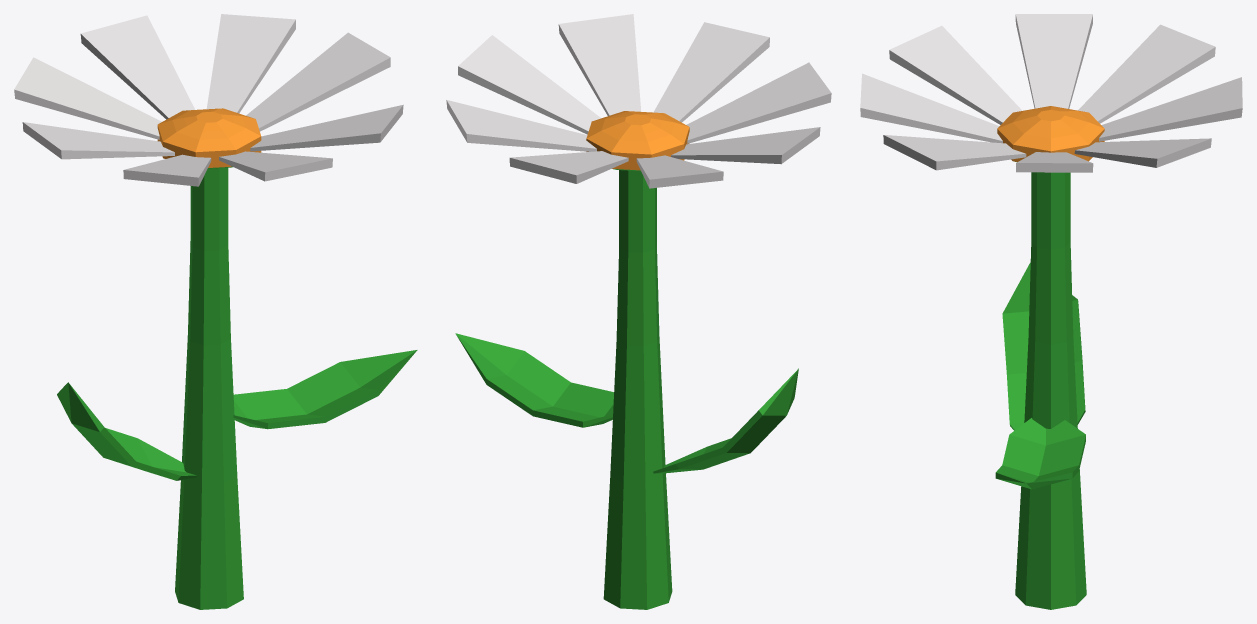
The model's file is flowerw.fbx.
The picture shows the model from 3 angles, left to right: view 1: azimuth 30°, elevation 25°; view 2: azimuth 150°, elevation 25°; view 3: azimuth 270°, elevation 25°; orthographic projection.
Parts seen in each view (by area): view 1: Cube.003; view 2: Cube.003; view 3: Cube.003.
Boxes of the visible parts, x1,y1,x2,y2 form: Cube.003: (14,14,417,609); Cube.003: (446,14,831,609); Cube.003: (860,14,1242,609).
Size of the model in its own units: 57.91 by 78.08 by 52.85.
